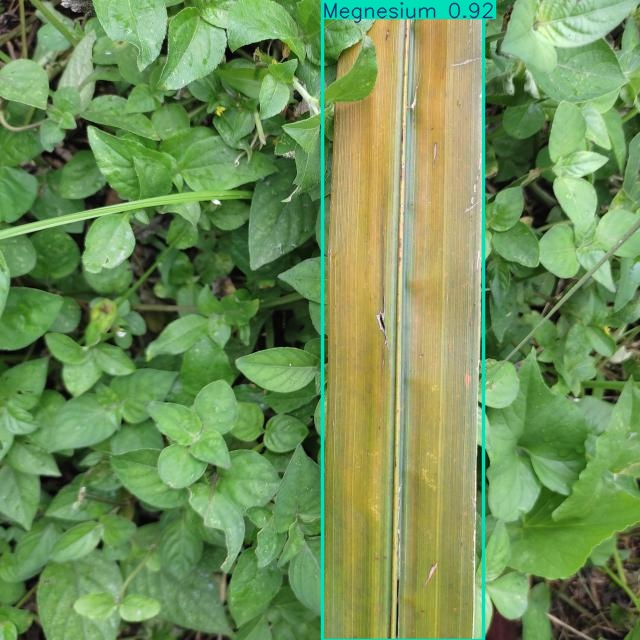Megnesium: (323, 0, 483, 640)
